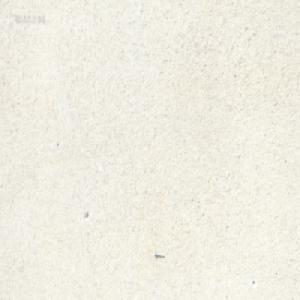Nail: (154, 250, 164, 258)
